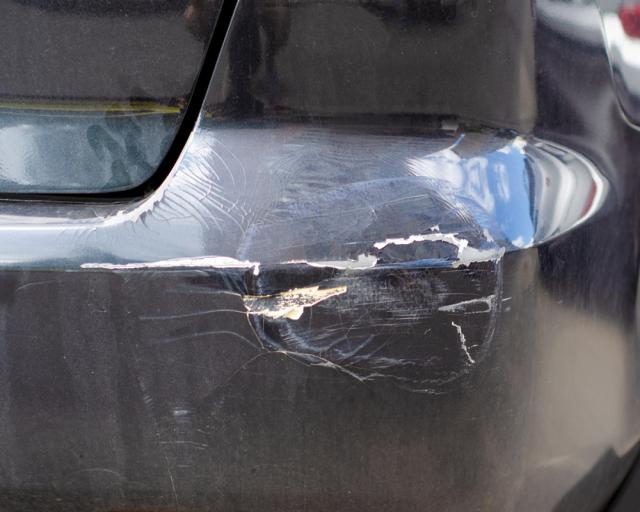dent: (438, 67, 606, 248)
scratch: (233, 173, 511, 396)
